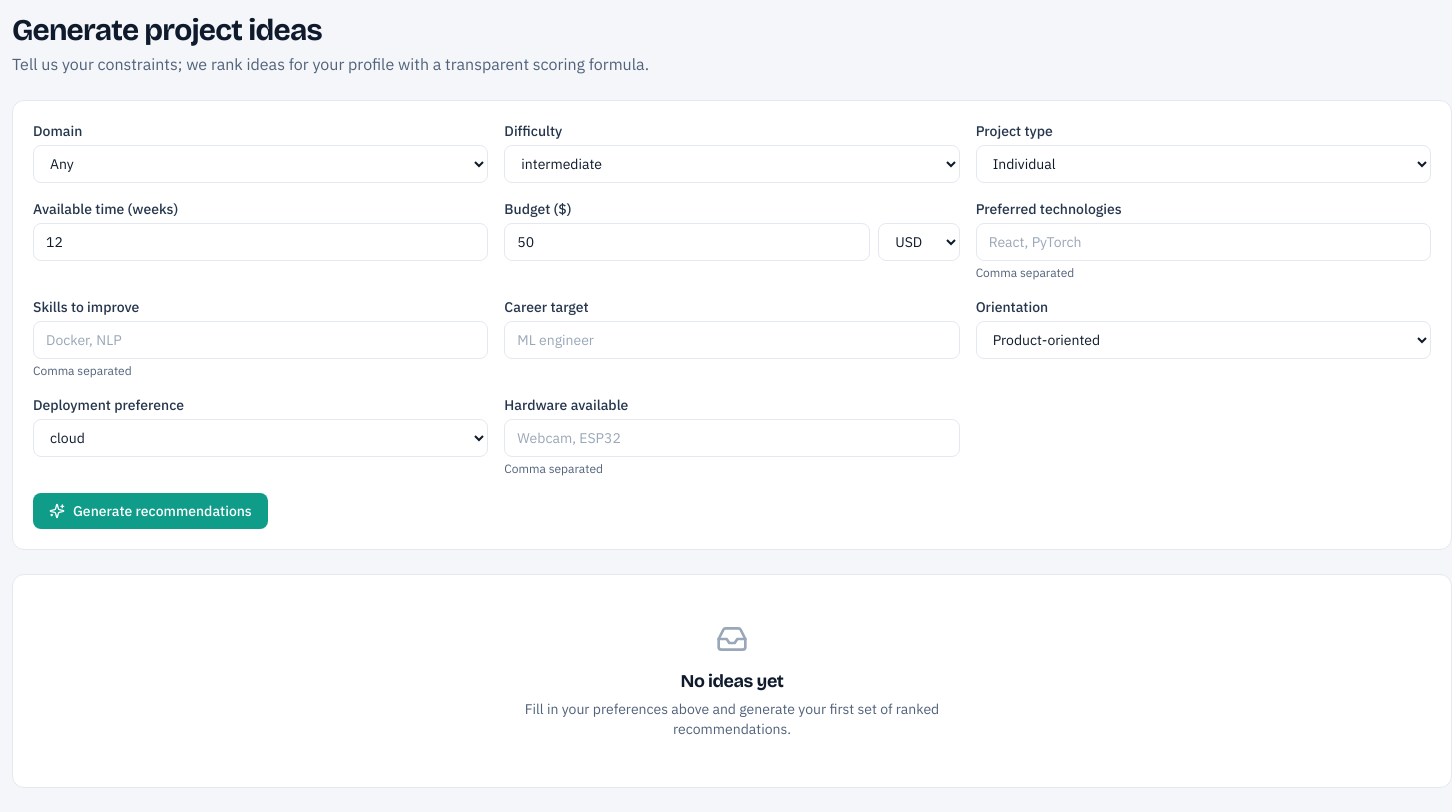
it: recommendation flow renders ranked projects and unverified-novelty notice
This screenshot has width=1452, height=812.
Select "Healthcare" in the dropdown labelled "Domain" at (261, 164), box [33,145,488,183]
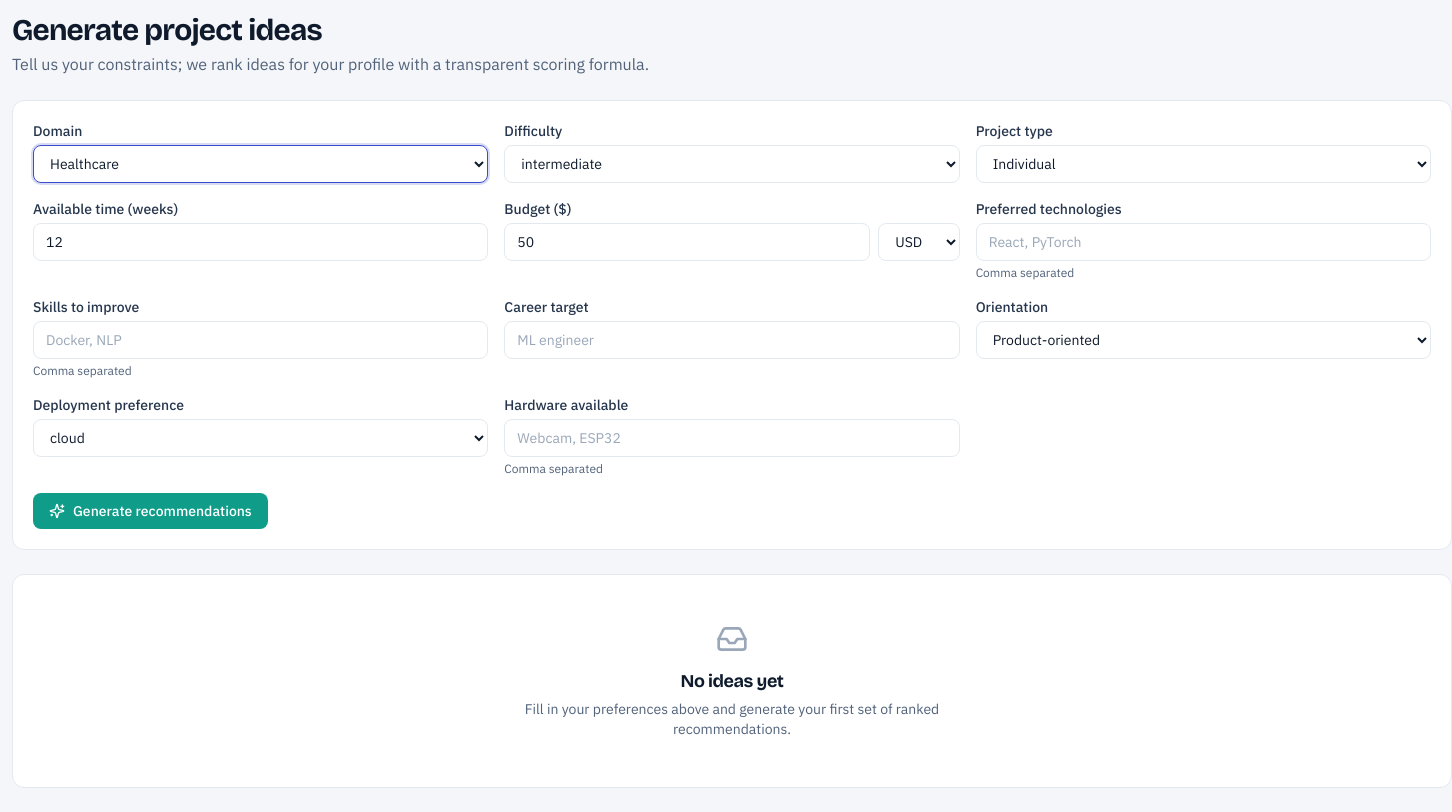
Click the button "Generate recommendations" at (150, 511), box [33,493,268,529]
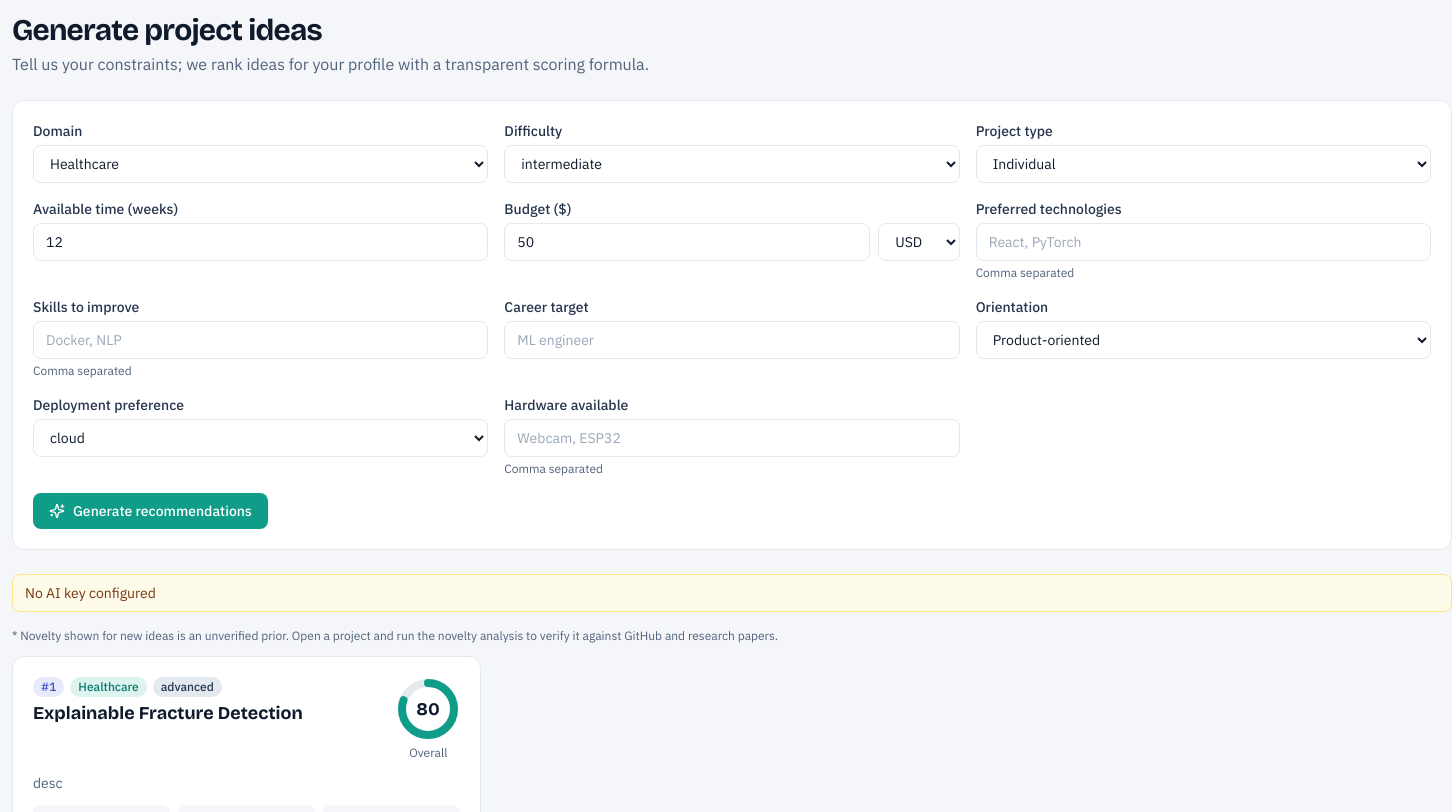
Expected: the link "Explainable Fracture Detection" is shown, [33,702,303,724]
Expected: the text "unverified prior" is shown, [12,628,778,643]
Expected: the text "No AI key configured" is shown, [12,574,1451,612]
